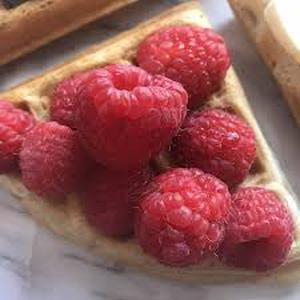raspb: (54, 52, 287, 262)
